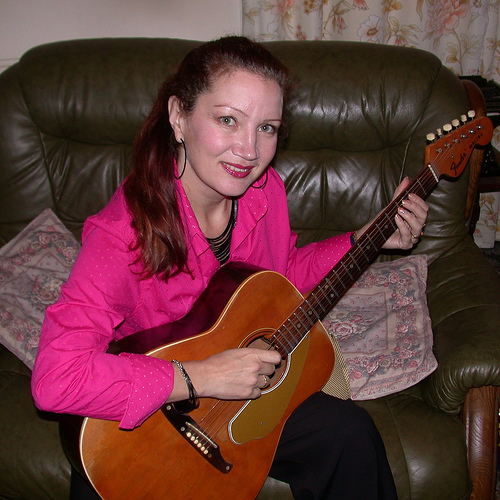guitar: (57, 108, 494, 500)
